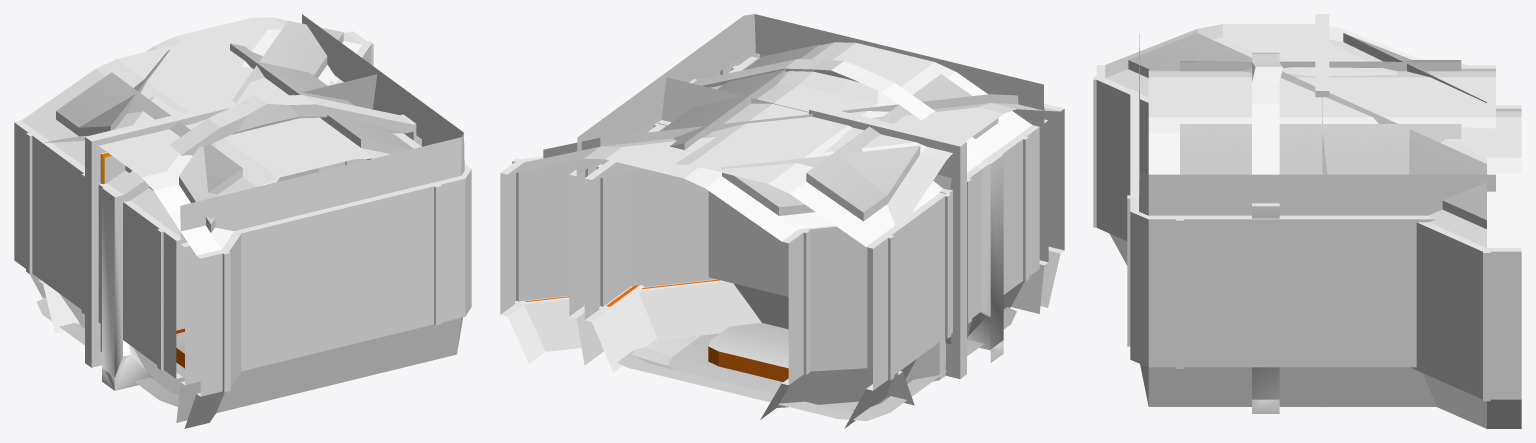
The model's file is Environment_modular.fbx.
The picture shows the model from 3 angles, left to right: view 1: azimuth 30°, elevation 25°; view 2: azimuth 150°, elevation 25°; view 3: azimuth 270°, elevation 25°; orthographic projection. The views are drawn at different scales.
Visible parts, largest first — view 1: corridor_corner, wallCorridor_straight, wallCorridor Bend_90, Corridoor_Door_Frame, Door, corridor_wildEnd, Cieling_light; view 2: wallCorridor Bend_90, wallCorridor_straight, Corridoor_Door_Frame, corridor_corner, Cieling_light, corridor_wildEnd, Door; view 3: corridor_corner, wallCorridor Bend_90, wallCorridor_straight, Corridoor_Door_Frame, Door.
Boxes of the visible parts, bbox=[...] form: corridor_corner: bbox=[176, 14, 471, 422]; wallCorridor_straight: bbox=[14, 40, 421, 394]; wallCorridor Bend_90: bbox=[38, 17, 373, 428]; Corridoor_Door_Frame: bbox=[69, 94, 421, 390]; Door: bbox=[85, 101, 236, 367]; corridor_wildEnd: bbox=[291, 74, 377, 171]; Cieling_light: bbox=[36, 297, 184, 406]; wallCorridor Bend_90: bbox=[500, 94, 1064, 419]; wallCorridor_straight: bbox=[584, 42, 1039, 428]; Corridoor_Door_Frame: bbox=[653, 59, 1003, 382]; corridor_corner: bbox=[569, 14, 1048, 364]; Cieling_light: bbox=[617, 307, 1016, 420]; corridor_wildEnd: bbox=[657, 77, 951, 344]; Door: bbox=[809, 105, 966, 378]; corridor_corner: bbox=[1127, 34, 1495, 406]; wallCorridor Bend_90: bbox=[1093, 24, 1521, 428]; wallCorridor_straight: bbox=[1148, 60, 1495, 174]; Corridoor_Door_Frame: bbox=[1252, 52, 1322, 413]; Door: bbox=[1315, 14, 1329, 97].
Bounding box in the file's own units: 523 × 352 × 493.
